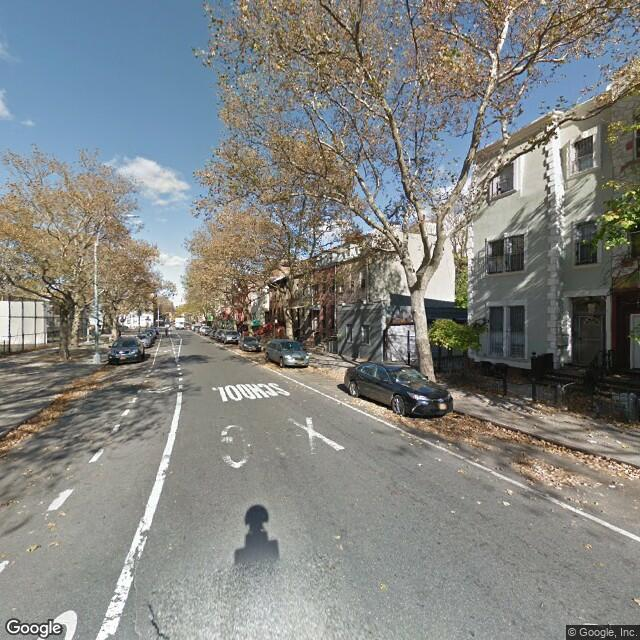litter: (530, 466, 543, 480)
